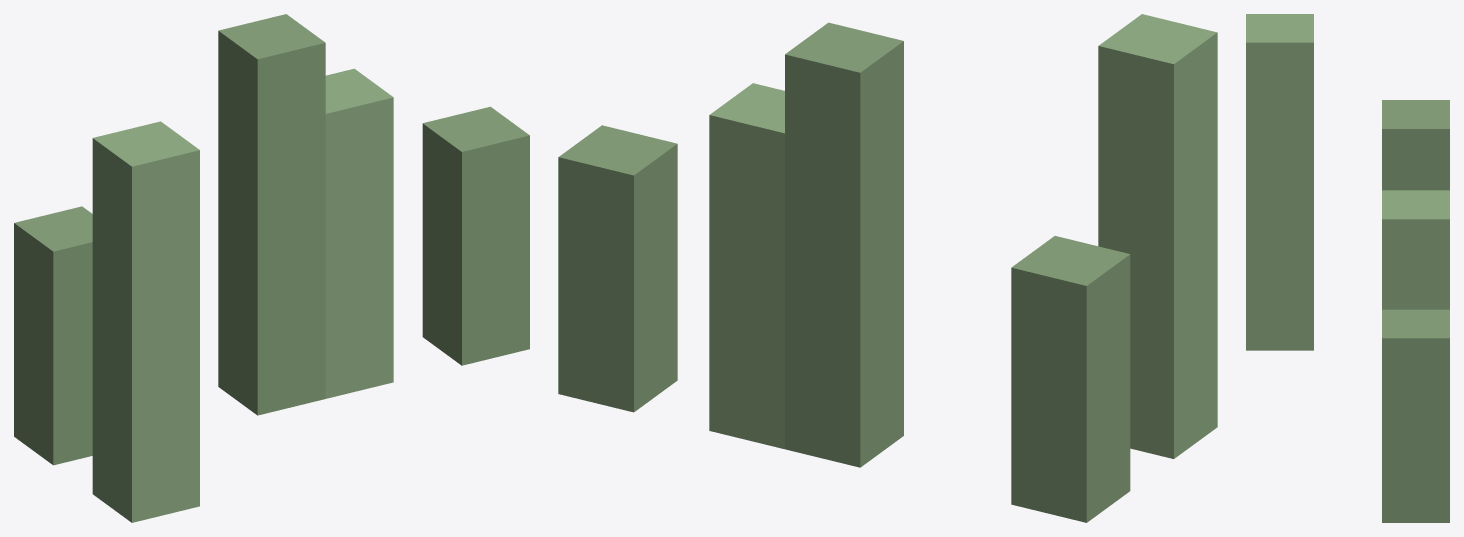
File: esparrago_silvestre_03.glb
3 views of the same model, side by side, from view 1: azimuth 30°, elevation 25°; view 2: azimuth 150°, elevation 25°; view 3: azimuth 270°, elevation 25° (orthographic). The views are drawn at different scales.
Visible parts, largest first — view 1: esparrago_silvestre_03; view 2: esparrago_silvestre_03; view 3: esparrago_silvestre_03.
Boxes of the visible parts, <box> form: esparrago_silvestre_03: <box>14,14,529,522</box>; esparrago_silvestre_03: <box>558,14,1217,522</box>; esparrago_silvestre_03: <box>1246,14,1449,522</box>.
Size of the model in its own units: 0.7 by 0.5 by 0.3.
